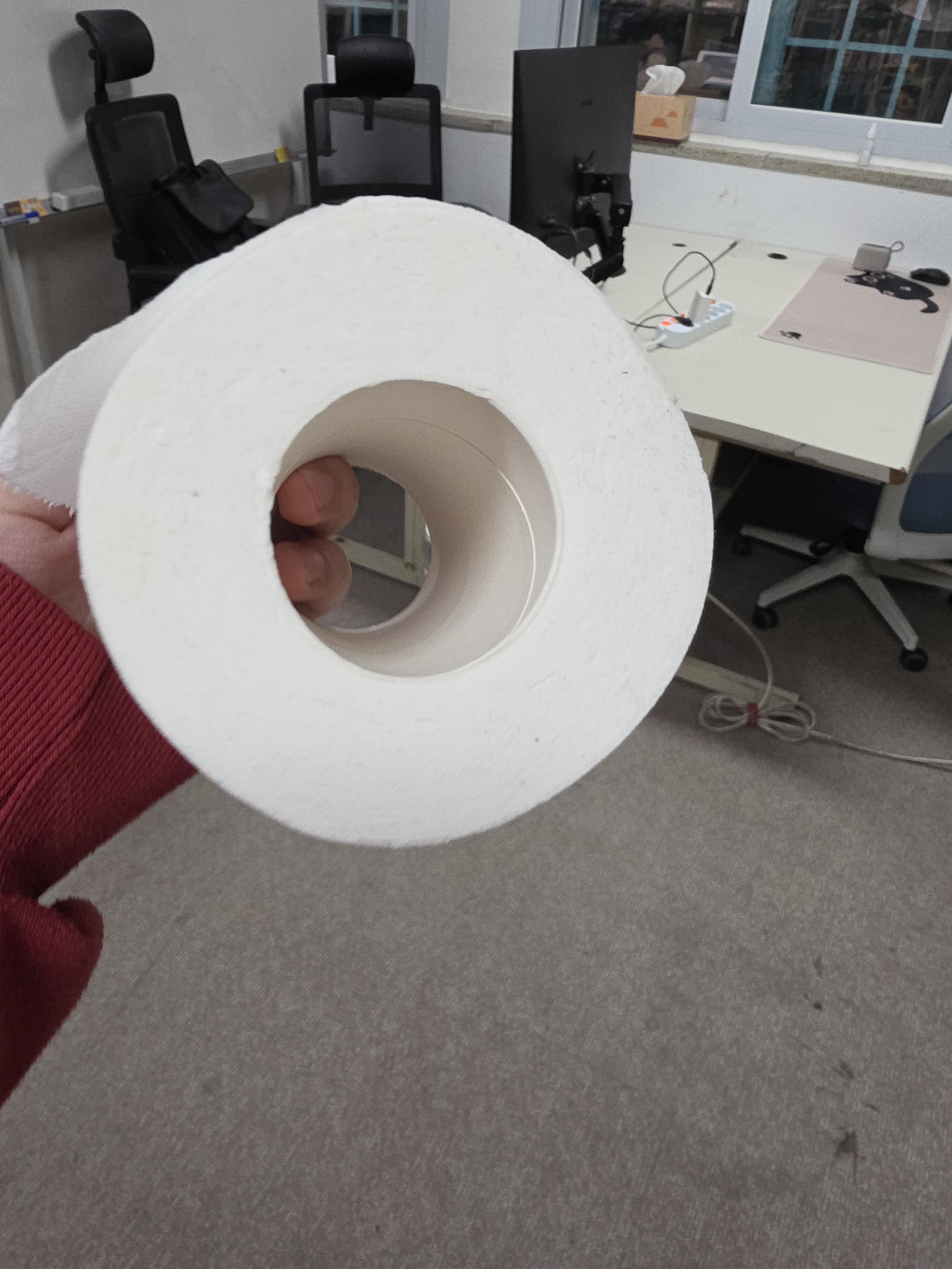tissue: (0, 194, 715, 848), (633, 64, 697, 142)
